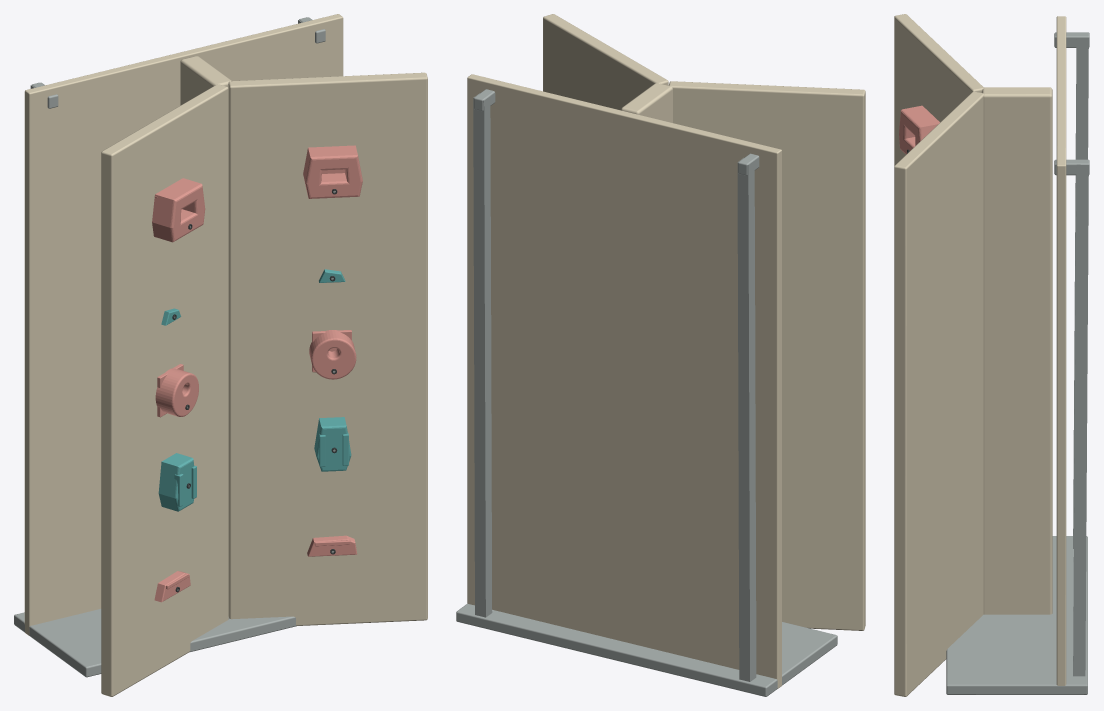
The model's file is indoor-climbing-and-bouldering-gym-indoor-climbing-and-87098a9f__31519.glb.
3 renders of one model, left to right at view 1: azimuth 30°, elevation 25°; view 2: azimuth 150°, elevation 25°; view 3: azimuth 270°, elevation 25°, orthographic. The views are drawn at different scales.
Visible parts, largest first — view 1: indoor-climbing-and-bouldering-gym-dihedral-wall-corner; view 2: indoor-climbing-and-bouldering-gym-dihedral-wall-corner; view 3: indoor-climbing-and-bouldering-gym-dihedral-wall-corner.
Part boxes in pixels (<box>): indoor-climbing-and-bouldering-gym-dihedral-wall-corner: <box>14,14,427,696</box>; indoor-climbing-and-bouldering-gym-dihedral-wall-corner: <box>456,14,865,696</box>; indoor-climbing-and-bouldering-gym-dihedral-wall-corner: <box>894,14,1089,696</box>.
Bounding box in the file's own units: 2.07 × 3.3 × 1.1.
